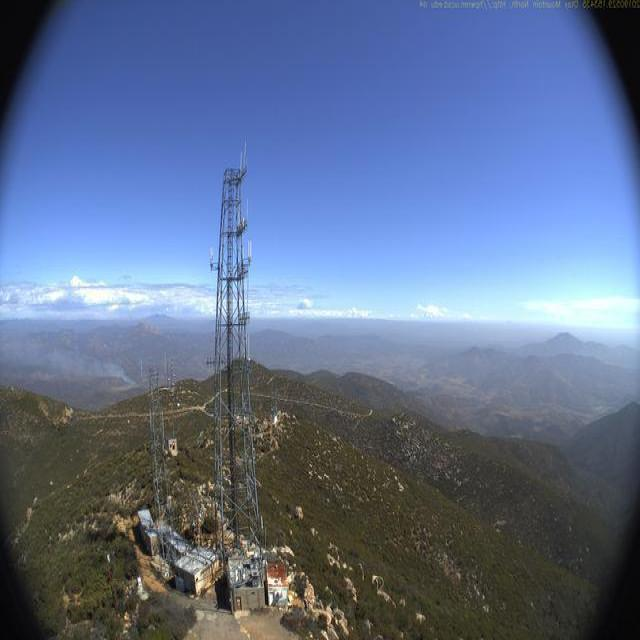smoke: (5, 336, 141, 389)
